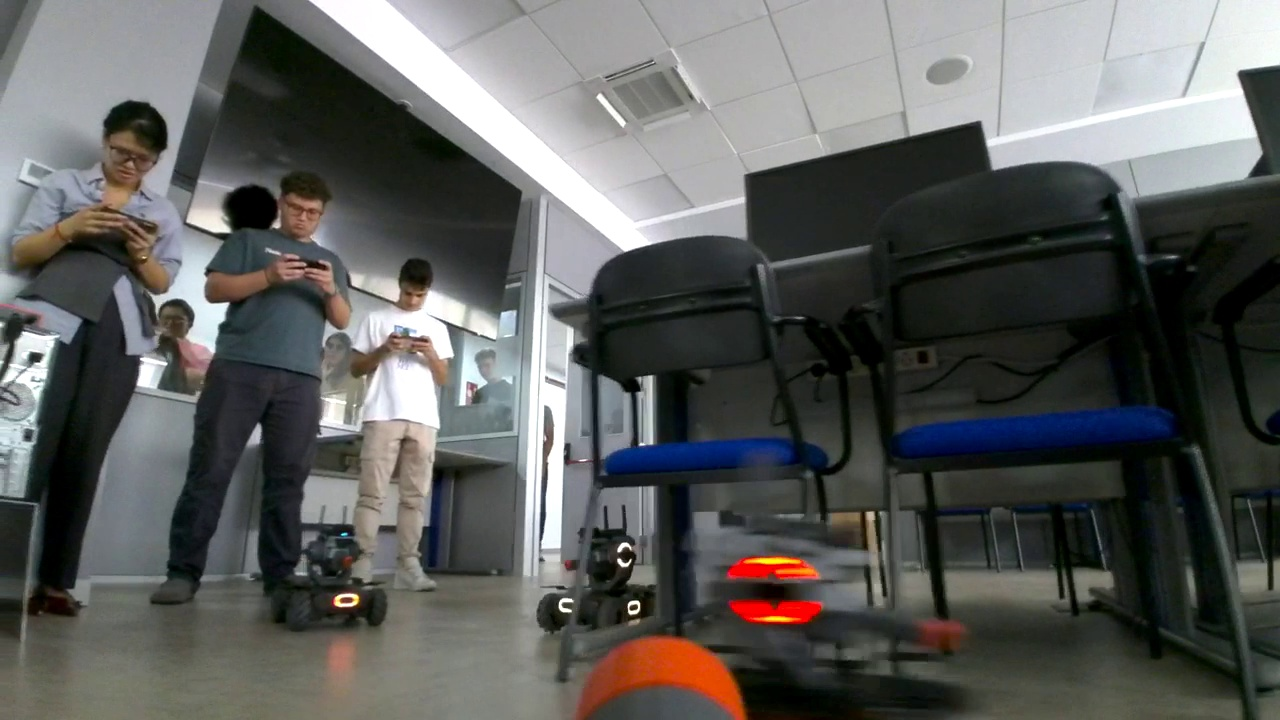robot: (678, 512, 965, 720), (537, 506, 671, 627), (273, 504, 385, 629)
